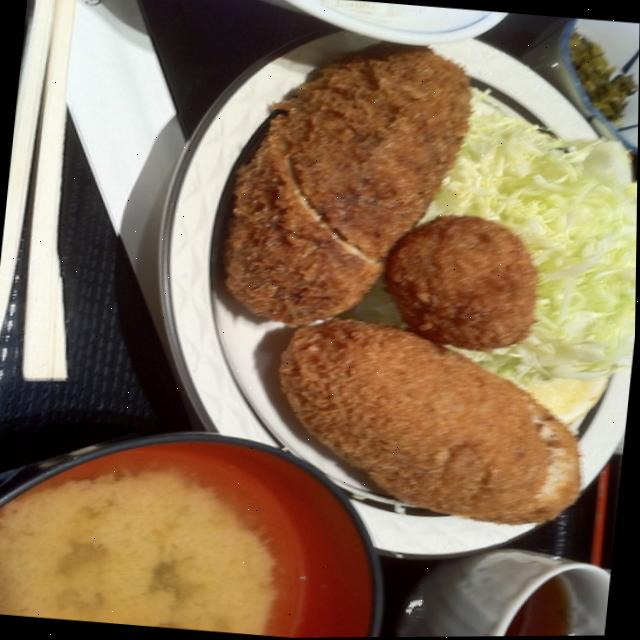炸货点心: (166, 11, 640, 554)
